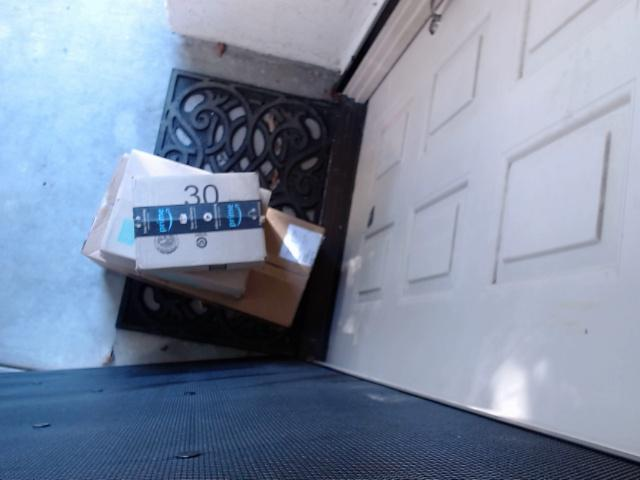box: (80, 124, 344, 332), (94, 137, 269, 297), (121, 169, 280, 268)
